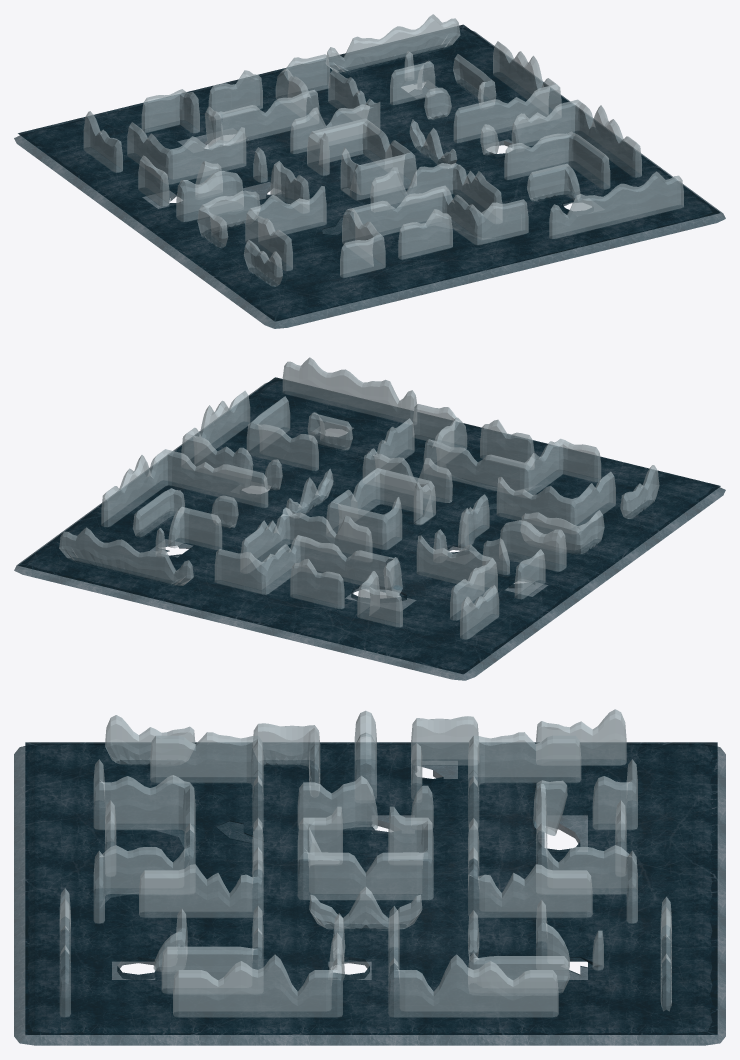
Rendered from Ice_labyrinth_FINAL.fbx.
The picture shows the model from 3 angles, top to bottom: view 1: azimuth 30°, elevation 25°; view 2: azimuth 150°, elevation 25°; view 3: azimuth 270°, elevation 25°; orthographic projection. The views are drawn at different scales.
Parts seen in each view (by area): view 1: Floor, Walls, Floor_bottom; view 2: Floor, Walls, Floor_bottom; view 3: Floor, Floor_bottom, Walls.
Part boxes in pixels (x1,y1,x2,y2): Floor: (14, 28, 725, 328); Walls: (83, 14, 683, 286); Floor_bottom: (18, 24, 720, 321); Floor: (14, 380, 725, 680); Walls: (59, 357, 659, 639); Floor_bottom: (18, 377, 720, 674); Floor: (14, 744, 725, 1045); Floor_bottom: (25, 742, 717, 1034); Walls: (59, 709, 671, 1017).
Bounding box in the file's own units: 117 × 12.79 × 117.
